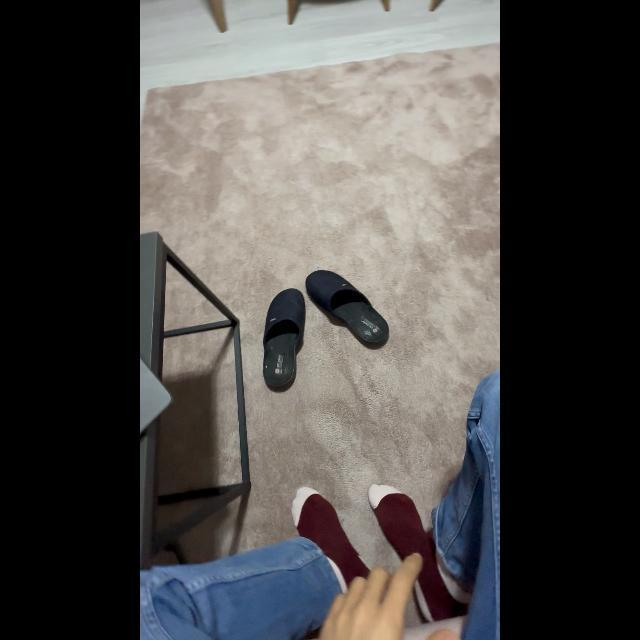slipper: (300, 264, 396, 356), (259, 285, 313, 399)
